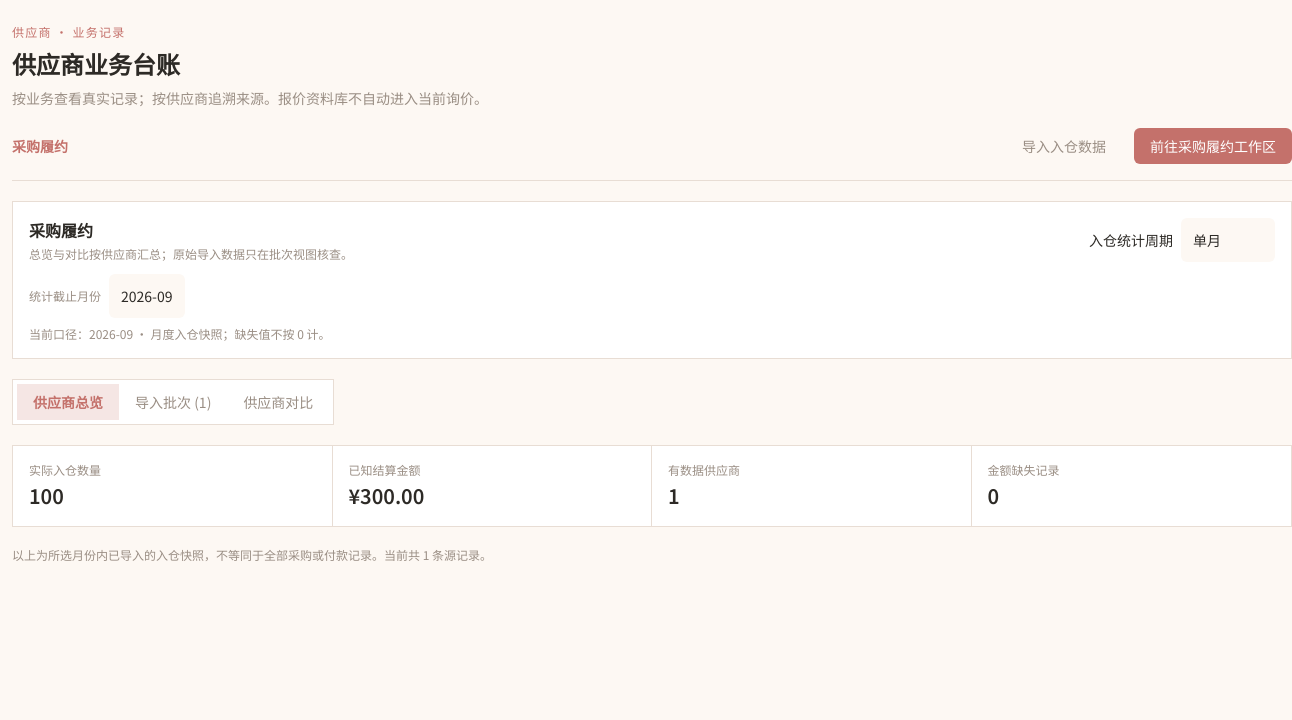
Test case: shows imported monthly inbound facts on the purchase source page
Click the tab "导入批次 (1)": (173, 402) [119,384,227,420]
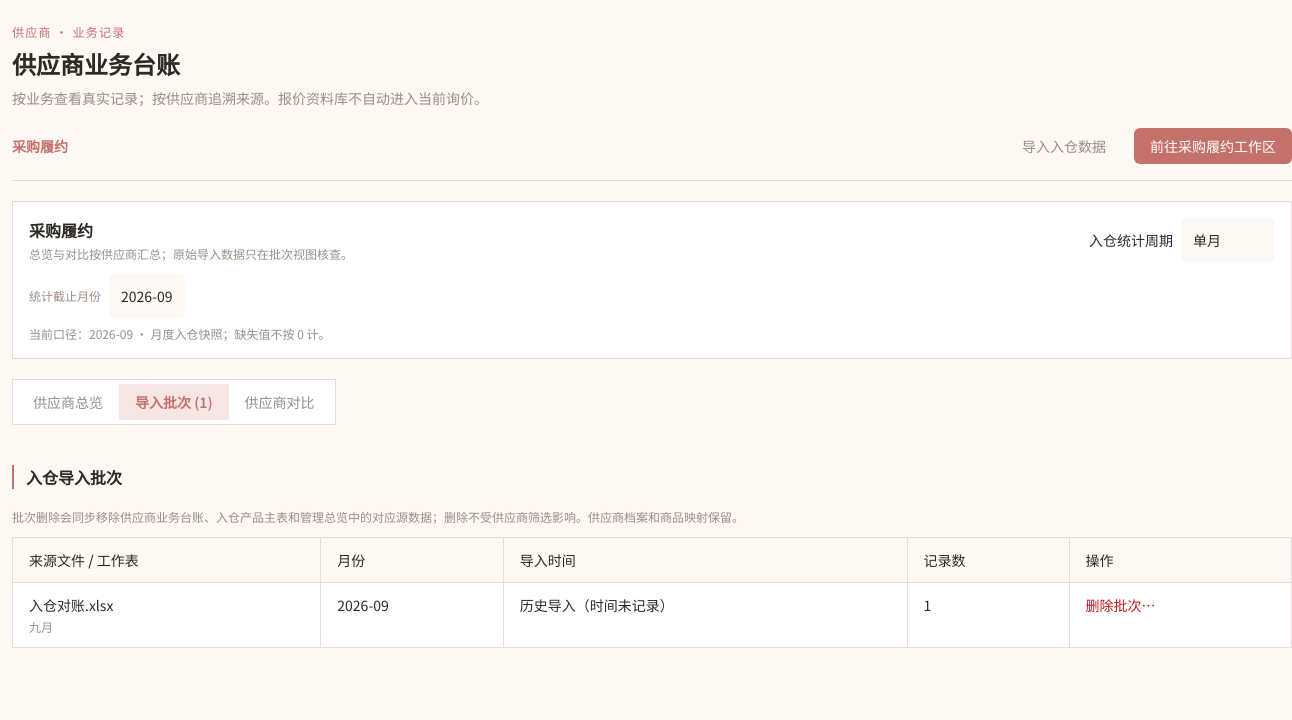
Result: the heading "入仓导入批次" is shown at [12,465,122,489]
Result: the text "入仓对账.xlsx" is shown at [29,595,113,615]
Result: the text "九月" is shown at [29,618,53,635]
